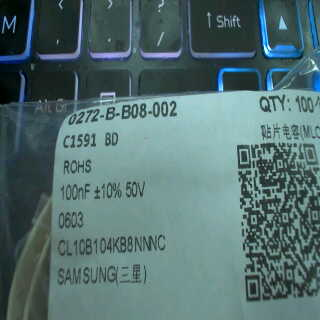100nF: (58, 179, 94, 204)
